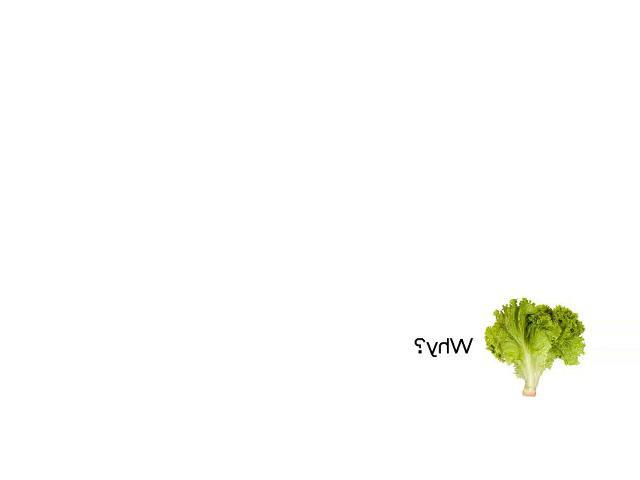lettuce: (427, 289, 589, 404)
